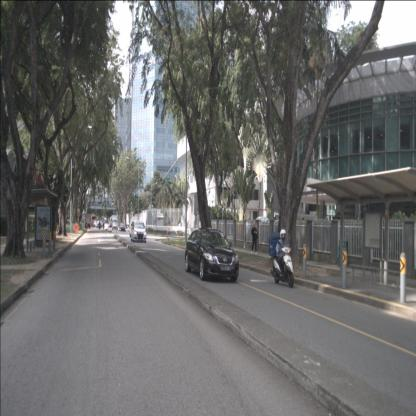human-pedestrian-adult: (251, 222, 258, 255)
vehicle-car: (185, 228, 239, 282), (130, 221, 146, 243), (129, 219, 140, 238), (119, 222, 127, 232), (96, 220, 102, 228), (112, 222, 118, 230), (108, 221, 113, 228)
vehicle-motorcycle: (269, 229, 294, 288)
vehicle-truck: (112, 215, 118, 227)
